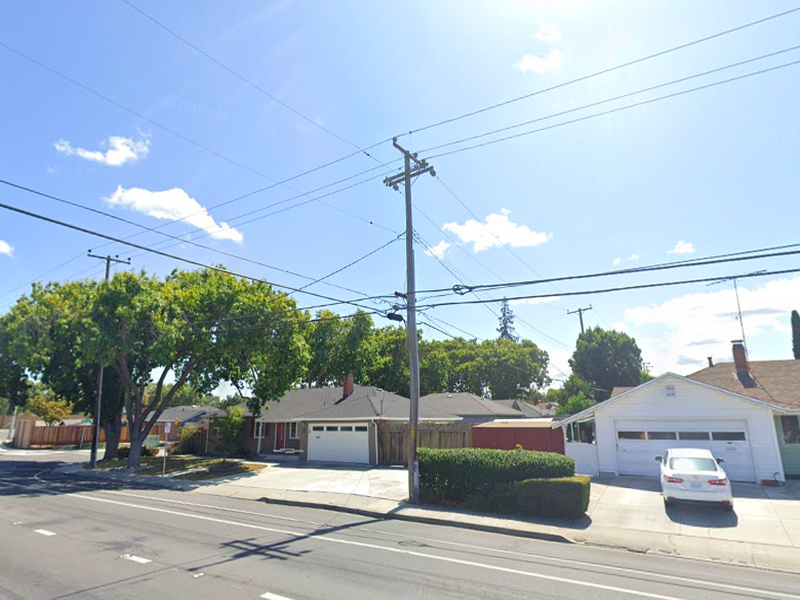tree: (1, 260, 313, 470)
utility_pole: (370, 126, 440, 219), (80, 241, 135, 273)
